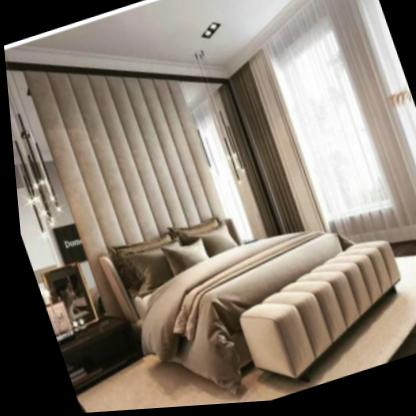Bed: (107, 221, 396, 399)
Wall Panel: (5, 70, 260, 350)
